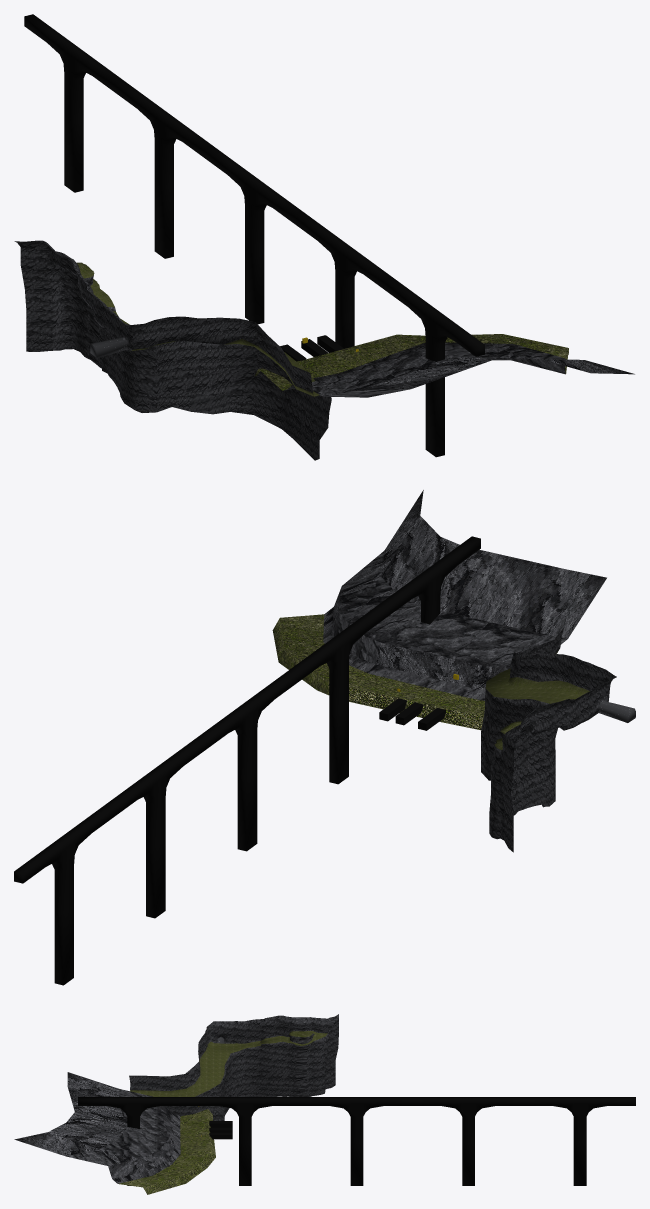
Rendered from coast.glb.
The picture shows the model from 3 angles, top to bottom: view 1: azimuth 30°, elevation 25°; view 2: azimuth 150°, elevation 25°; view 3: azimuth 270°, elevation 25°; orthographic projection. The views are drawn at different scales.
Parts seen in each view (by area): view 1: coast.col, track, docks; view 2: coast.col, track, docks; view 3: coast.col, track, docks.
Part boxes in pixels (<box>): coast.col: <box>14,240,634,460</box>; track: <box>24,14,484,457</box>; docks: <box>280,335,343,361</box>; coast.col: <box>272,490,635,852</box>; track: <box>14,536,480,985</box>; docks: <box>379,698,445,730</box>; coast.col: <box>14,1014,338,1194</box>; track: <box>78,1097,635,1185</box>; docks: <box>209,1121,232,1139</box>.
Size of the model in its own units: 481 by 173 by 1011.
5 materials, 2 textured.
